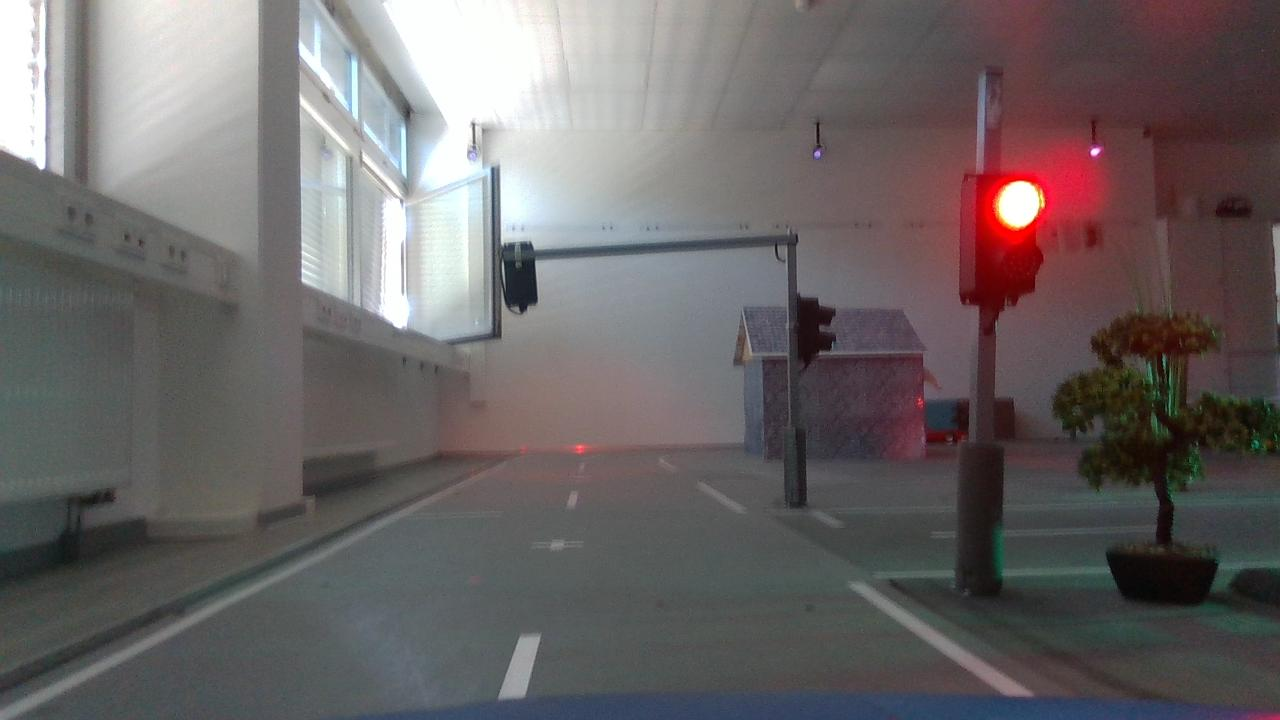traffic_light_red: (949, 161, 1060, 325)
